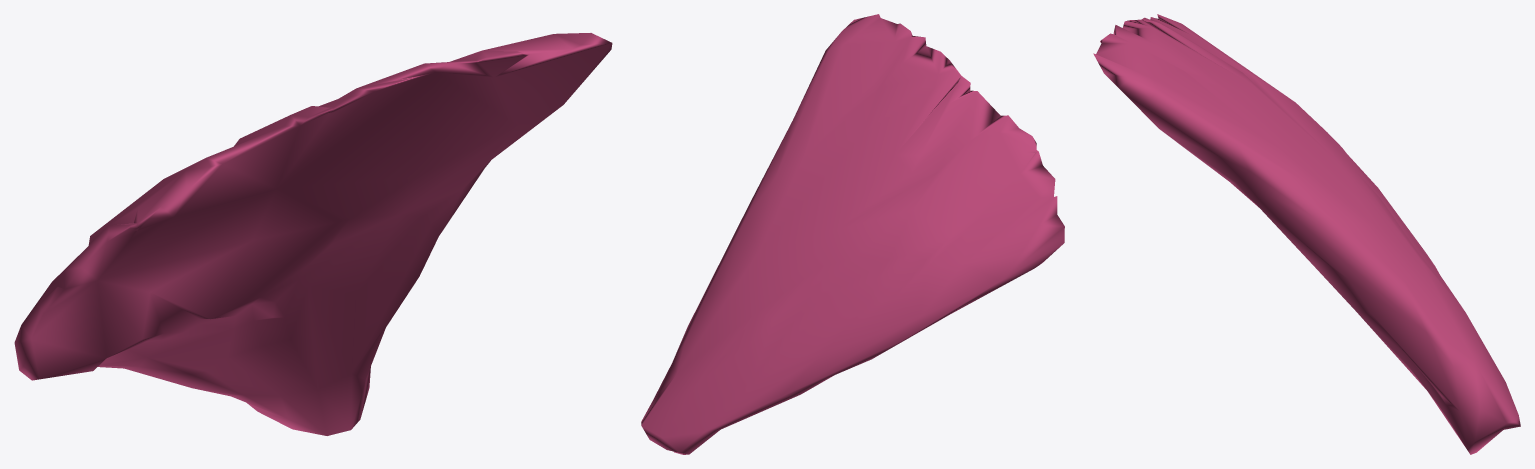
The picture shows the model from 3 angles, left to right: view 1: azimuth 30°, elevation 25°; view 2: azimuth 150°, elevation 25°; view 3: azimuth 270°, elevation 25°; orthographic projection. The views are drawn at different scales.
Parts seen in each view (by area): view 1: 右侧头后小直肌; view 2: 右侧头后小直肌; view 3: 右侧头后小直肌.
Boxes of the visible parts, left/top/right/bottom form: 右侧头后小直肌: left=14, top=33, right=612, bottom=435; 右侧头后小直肌: left=641, top=14, right=1064, bottom=454; 右侧头后小直肌: left=1093, top=14, right=1520, bottom=454.
Size of the model in its own units: 0.0348 by 0.0373 by 0.0383.
